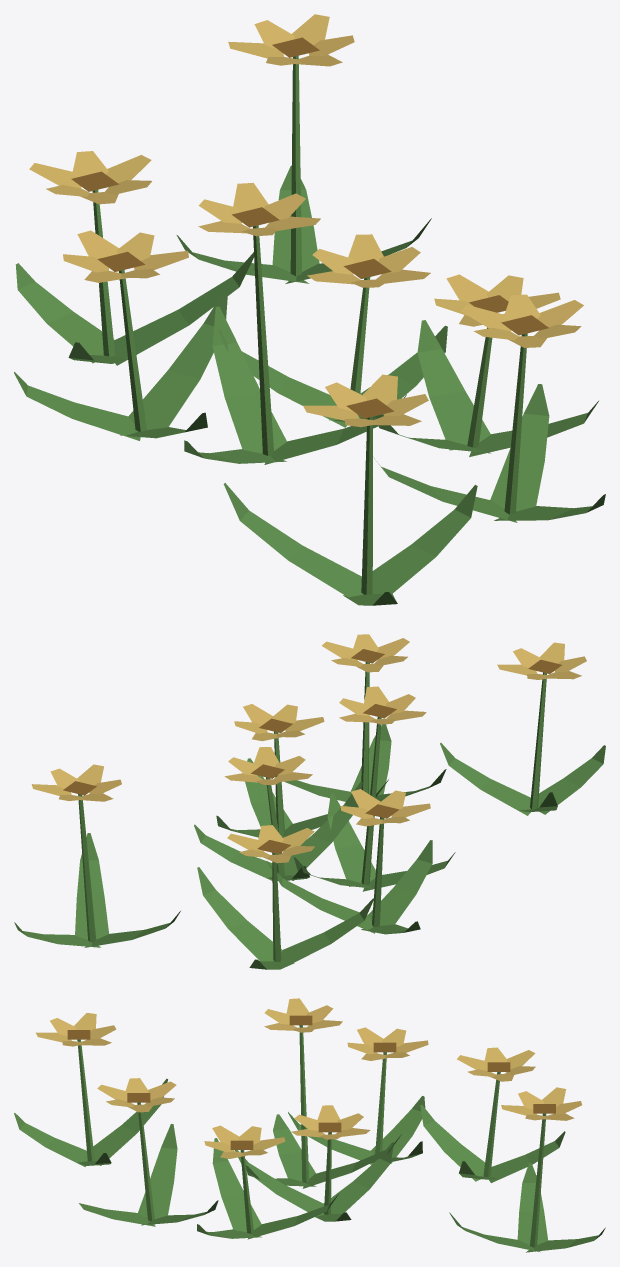
Rendered from woodland_flower_patch_v1.glb.
3 views of the same model, one above another, from view 1: azimuth 30°, elevation 25°; view 2: azimuth 150°, elevation 25°; view 3: azimuth 270°, elevation 25° (orthographic). The views are drawn at different scales.
Parts seen in each view (by area): view 1: FlowerLeaves, FlowerPetals, FlowerStems, FlowerCenters; view 2: FlowerLeaves, FlowerPetals, FlowerStems, FlowerCenters; view 3: FlowerLeaves, FlowerPetals, FlowerStems, FlowerCenters.
Boxes of the visible parts, <box> form: FlowerLeaves: <box>14,166,605,605</box>; FlowerPetals: <box>29,14,583,427</box>; FlowerStems: <box>92,55,527,594</box>; FlowerCenters: <box>71,37,548,418</box>; FlowerLeaves: <box>14,724,605,969</box>; FlowerPetals: <box>31,634,586,863</box>; FlowerStems: <box>78,662,546,961</box>; FlowerCenters: <box>63,649,561,854</box>; FlowerLeaves: <box>14,1078,605,1252</box>; FlowerPetals: <box>36,998,581,1158</box>; FlowerStems: <box>77,1025,546,1247</box>; FlowerCenters: <box>67,1015,555,1149</box>.
Bounding box in the file's own units: 1 × 0.5466 × 1.82.
